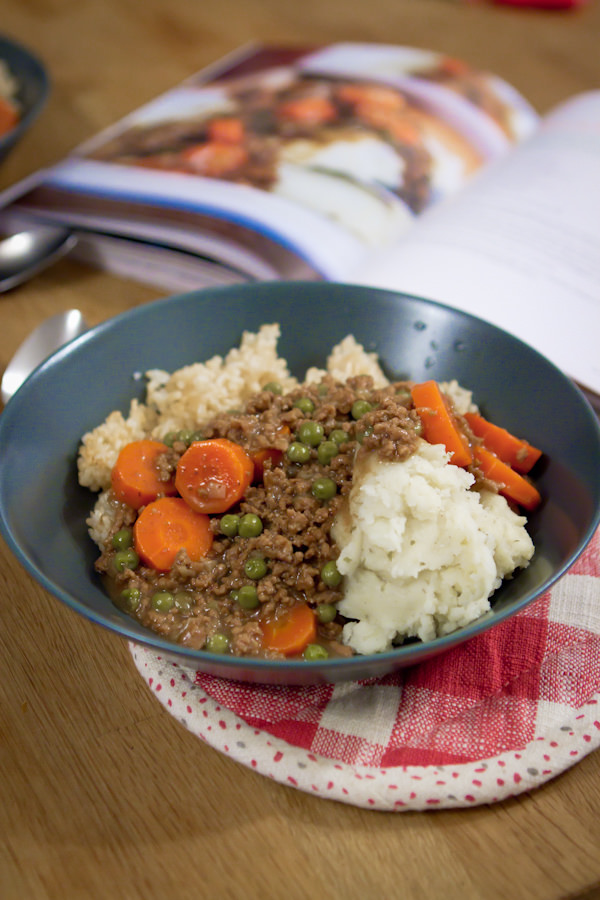plain rice: (368, 470, 495, 587)
